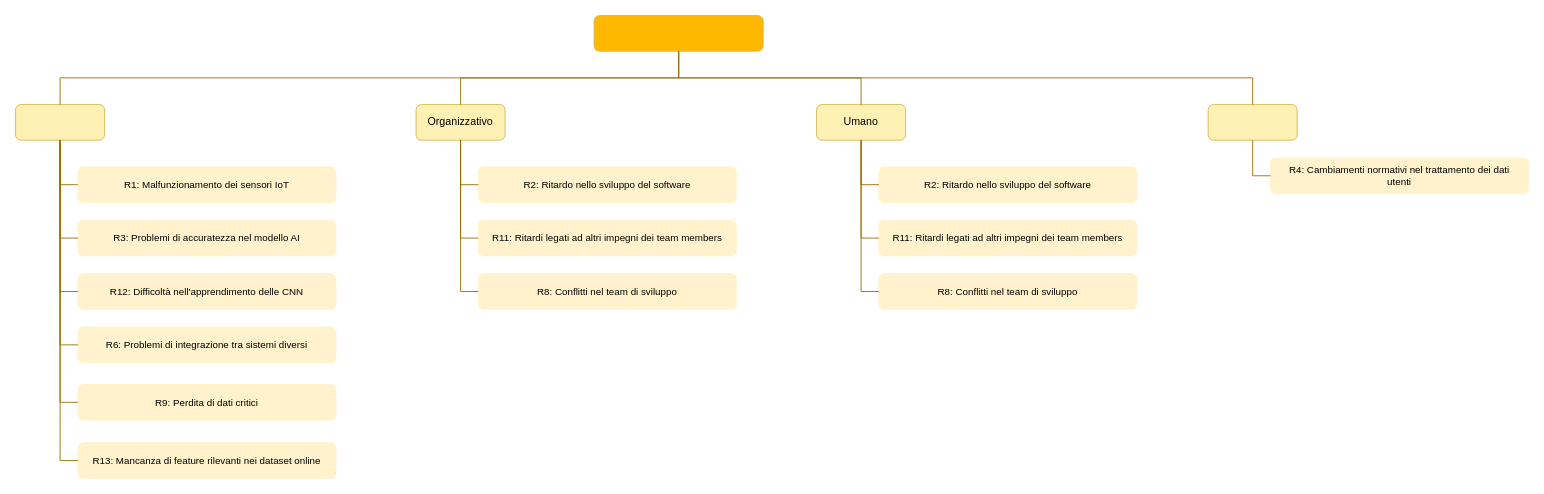
Some shapes in this 1544 by 494 pixel diagram are drawn without their labels. The centre of each missing label's shape, as x and y in pixels:
beehAIve: (x=678, y=33)
Legale: (x=1252, y=122)
Teconologico: (x=60, y=122)
